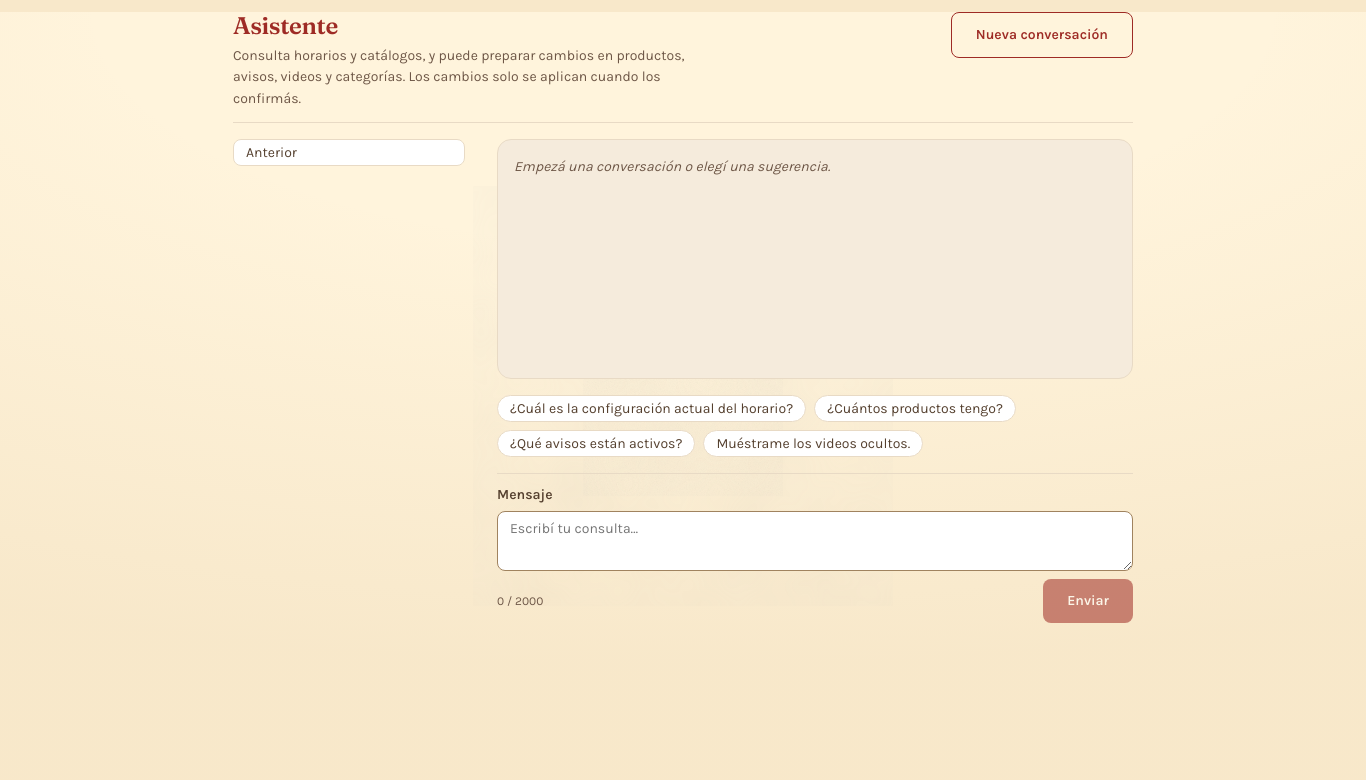
Scenario: AssistantChat › carga el historial al elegir una conversación
Click the button "Anterior" at (349, 152), box [233,139,465,166]
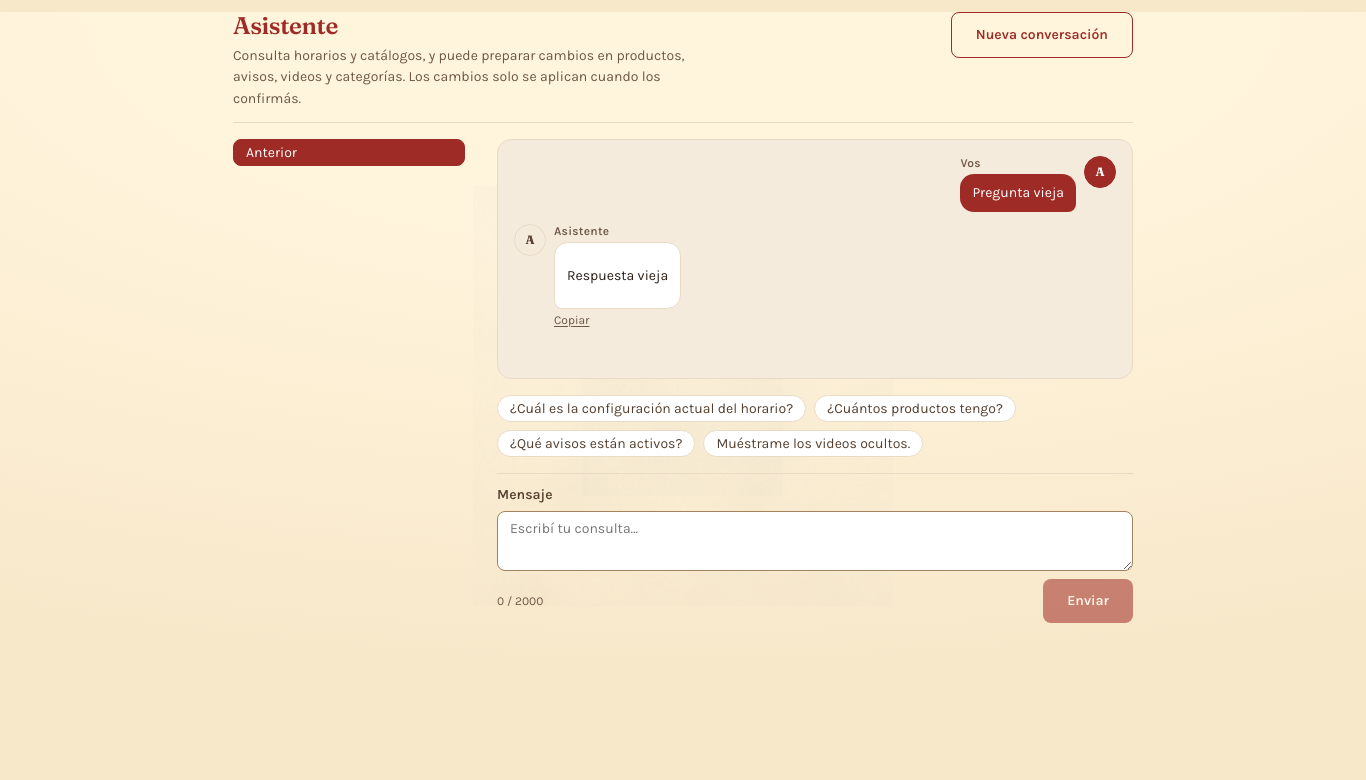
Expected: the text "Pregunta vieja" is shown, [960,174,1076,212]
Expected: the text "Respuesta vieja" is shown, [567,264,668,286]
